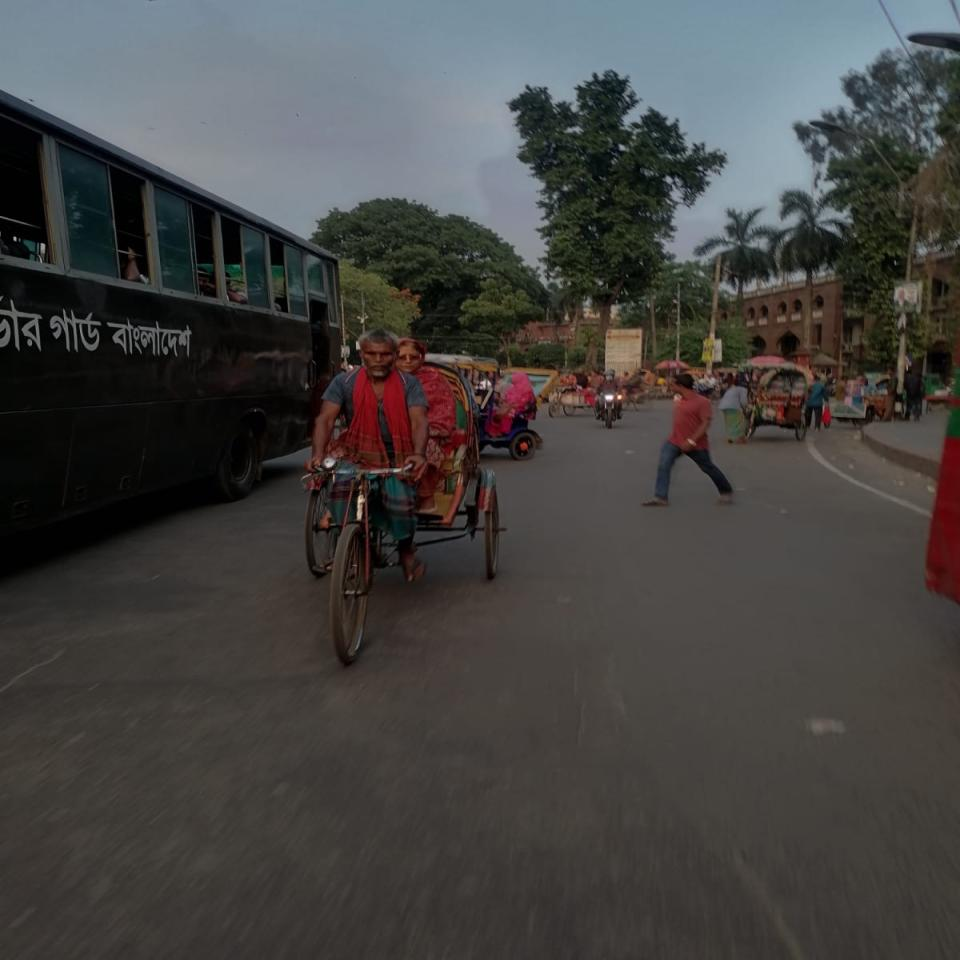person: (643, 373, 734, 507)
